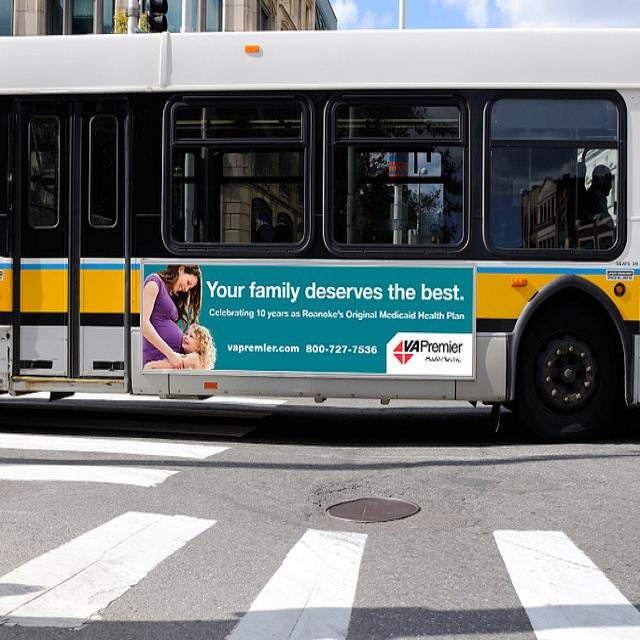Vehicle: (0, 31, 640, 440)
